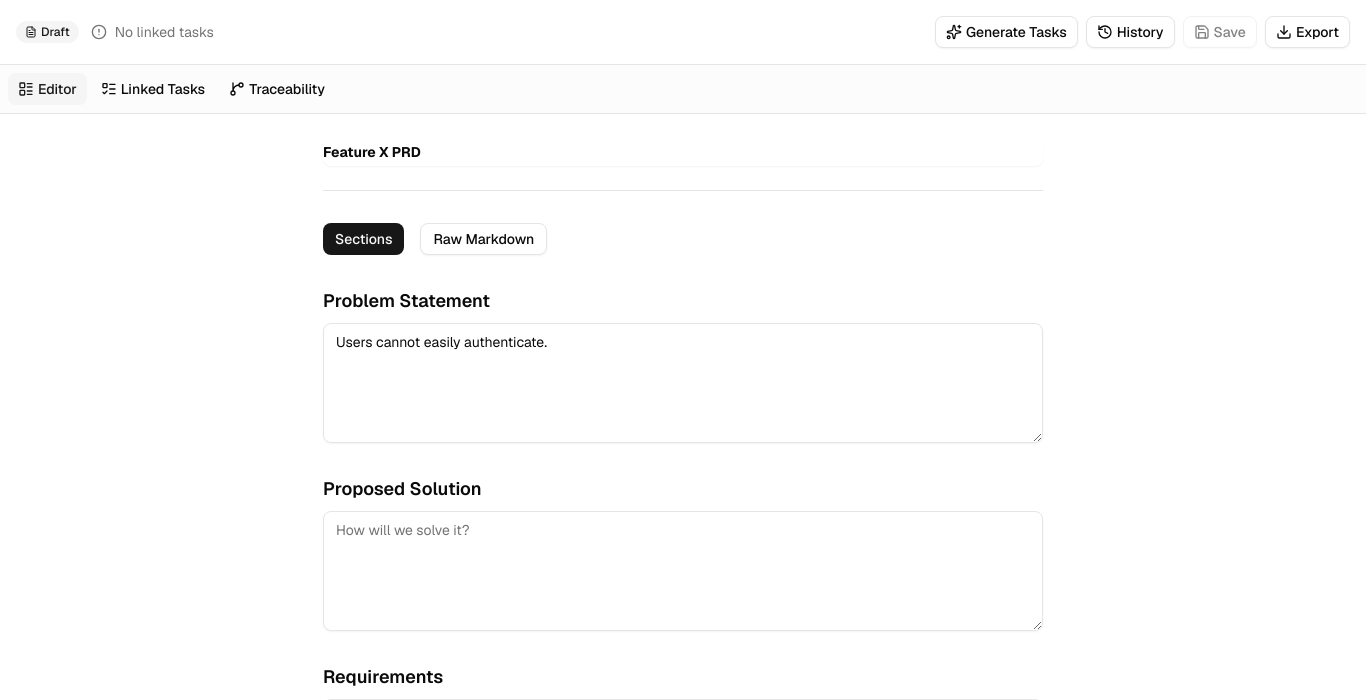
Scenario: 2.3 PRD Editor › PRDEditor can toggle between edit modes
Expected: the element with test id "section-problem" is shown, [323,287,1043,443]
Switch to Raw Markdown
Step 1. Click the button "Raw Markdown" → (484, 239), box [420,223,547,255]
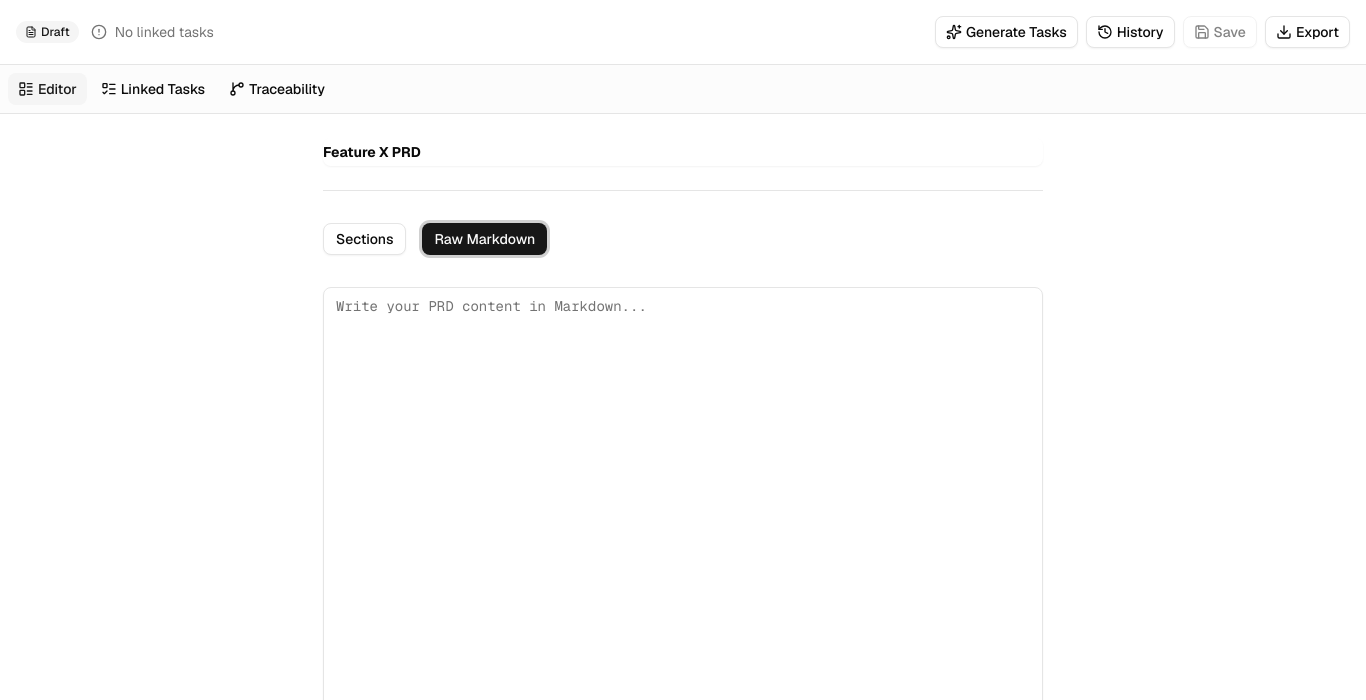
Switch back to Sections
Step 2. Click the button "Sections" → (365, 239), box [323,223,406,255]
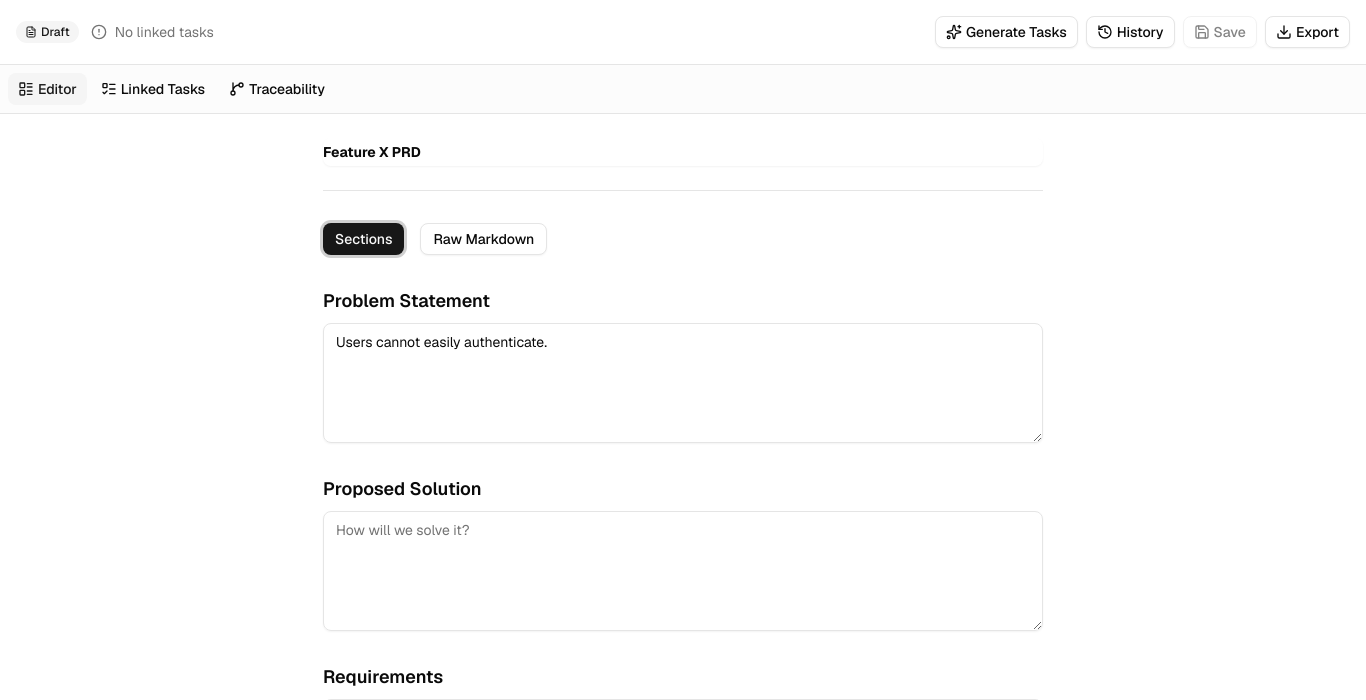
Result: the element with test id "section-problem" is shown at [323,287,1043,443]
